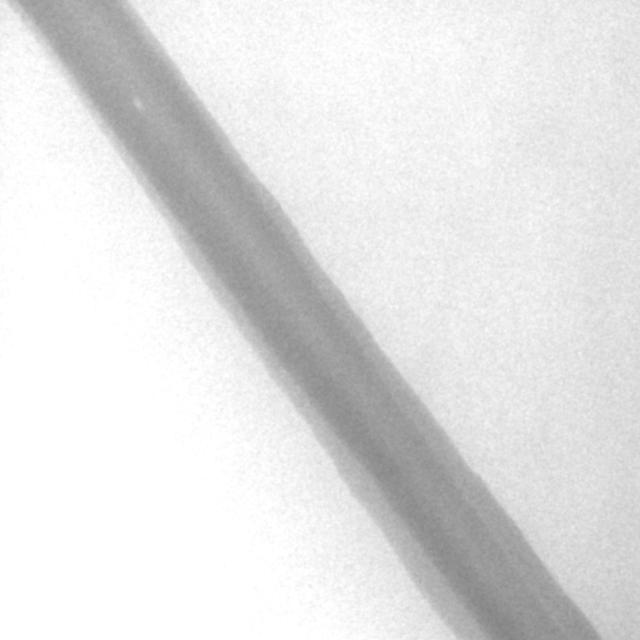air hole: (131, 94, 144, 113)
